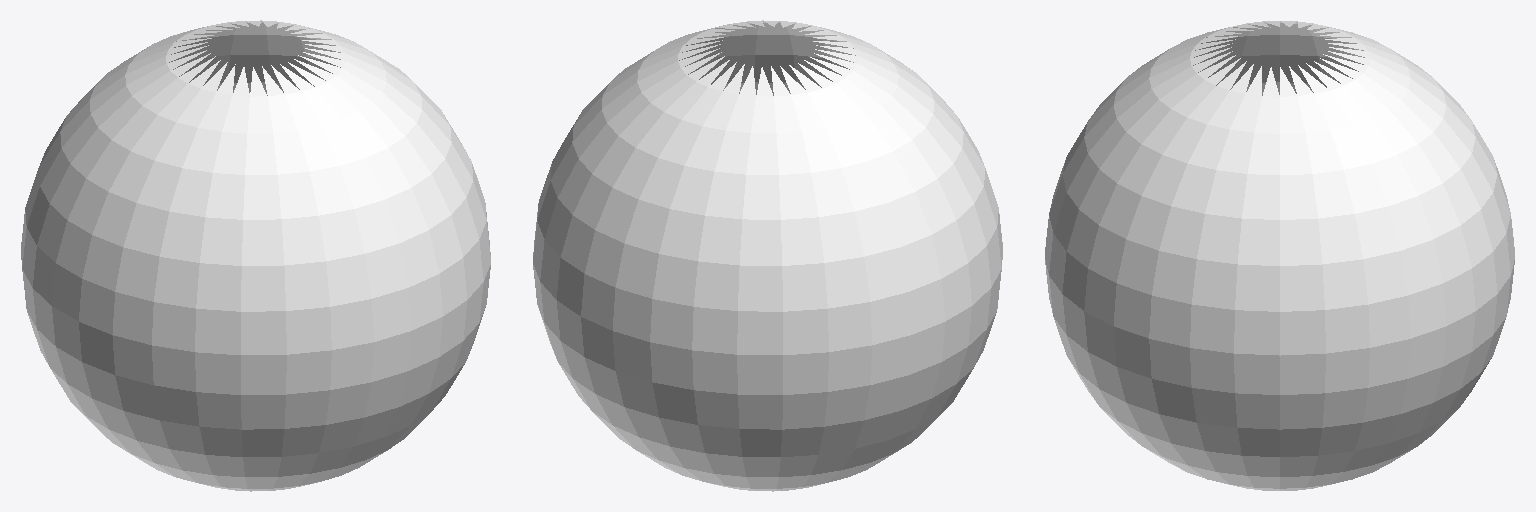
URDF robot description (main):
<?xml version="1.0" ?>
<robot name="main">
  <link name="table_link">
    <inertial>
      <origin rpy="0 0 0" xyz="0 0 -0.18746"/>
      <mass value="600"/>
      <inertia ixx="152.284" ixy="0" ixz="0" iyy="207.558" iyz="0" izz="288.142"/>
    </inertial>
    <visual>
      <origin rpy="0 0 0" xyz="0 0 0"/>
      <geometry>
        <sphere radius="0.00001"/>
      </geometry>
      <material name="white">
        <color rgba="1 1 1 1"/>
      </material>
    </visual>
    <collision>
      <origin rpy="0 0 0" xyz="0 0 -0.1"/>
      <geometry>
        <box size="1.2 1.6 0.2"/>
      </geometry>
    </collision>
  </link>
</robot>

--- What the picture shows (computed from the rendered views, not written in the file) ---
Views: 3 orthographic renders of the robot side by side, from view 1: azimuth 30°, elevation 25°; view 2: azimuth 150°, elevation 25°; view 3: azimuth 270°, elevation 25°.
Model main with 1 links and 0 joints (none), rooted at table_link, posed all joints at 0.
Visible links, largest first — view 1: table_link; view 2: table_link; view 3: table_link.
Link boxes in pixels (bbox=[...]): table_link: bbox=[21, 20, 490, 491]; table_link: bbox=[533, 20, 1002, 491]; table_link: bbox=[1045, 21, 1514, 490].
Bounding box of the posed robot: 0 × 0 × 0 m (x, y, z).
Geometry: primitives only (box / cylinder / sphere), no mesh files.